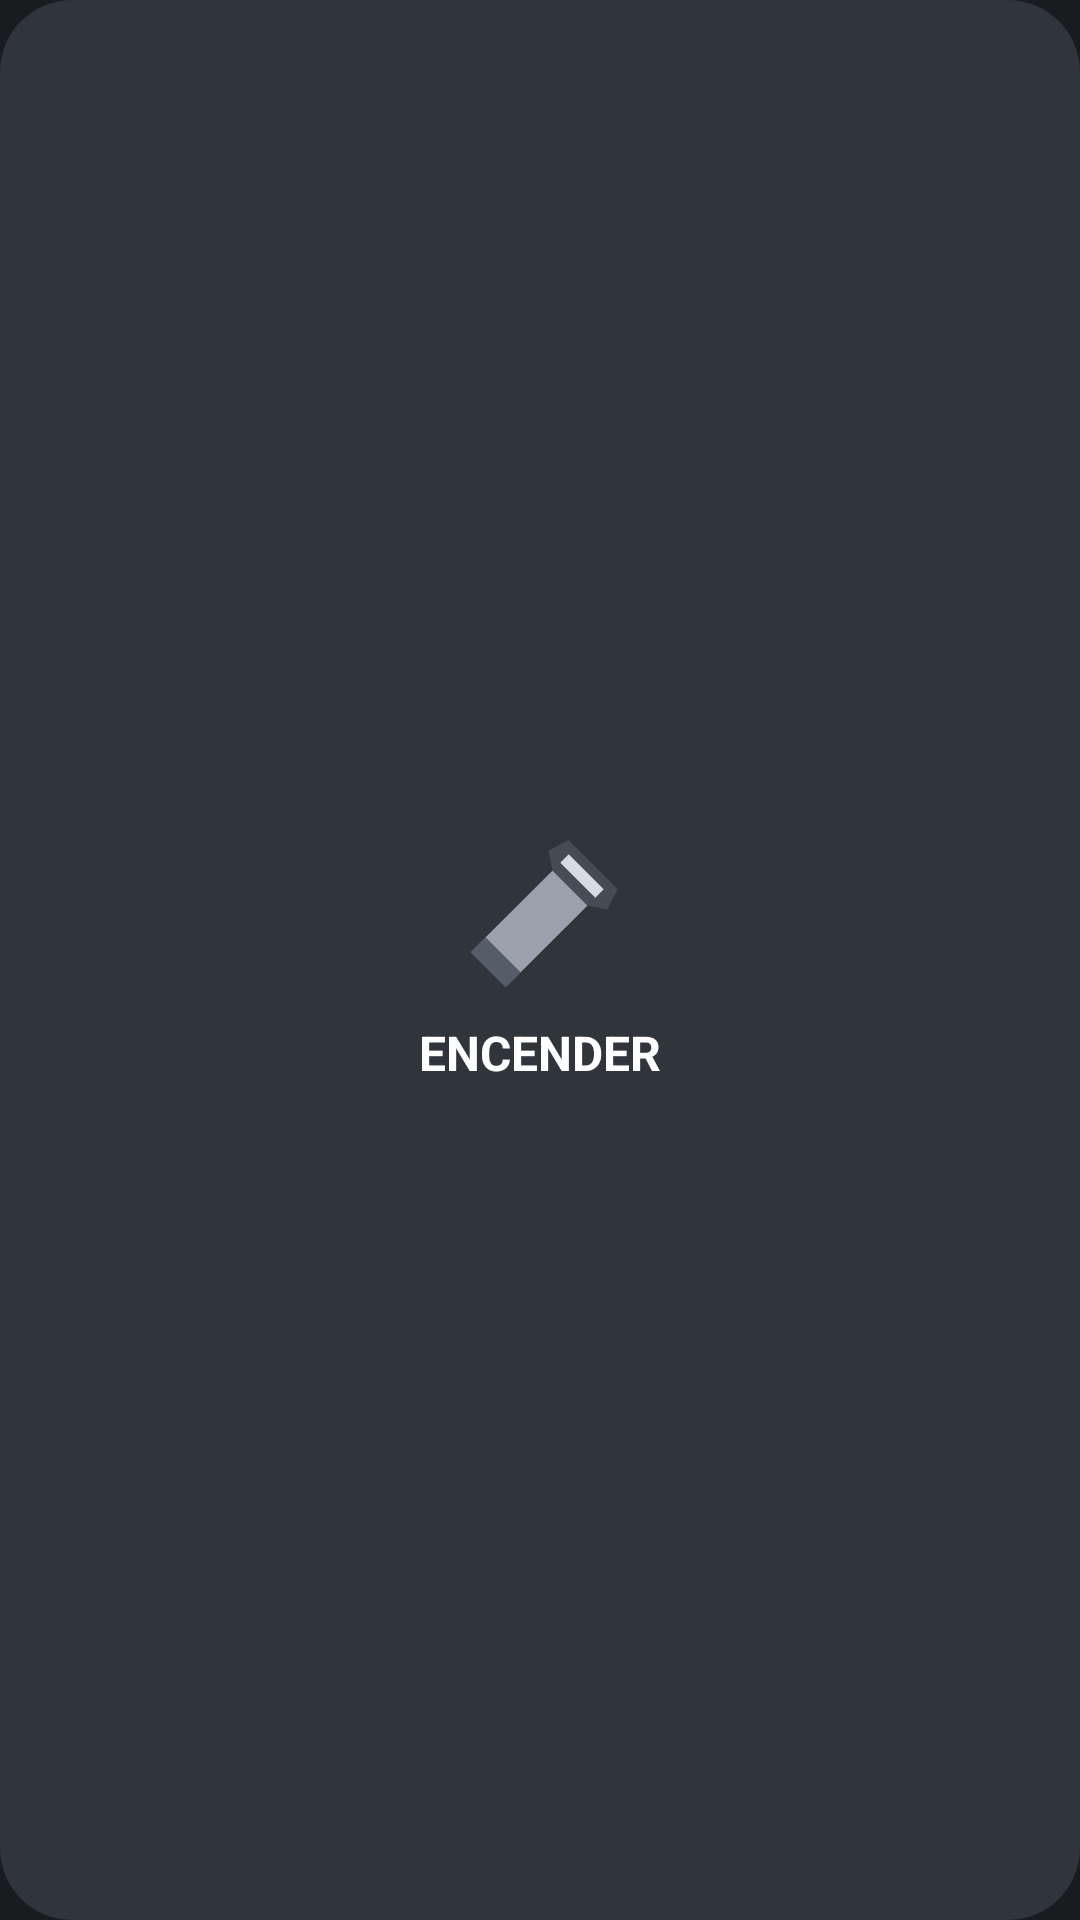

Where icons sit on this 1080 x 1920 app screen, as [x1=x1, y1=y1, x2=x2, y2=y2]:
Linterna: [x1=471, y1=841, x2=617, y2=987]
